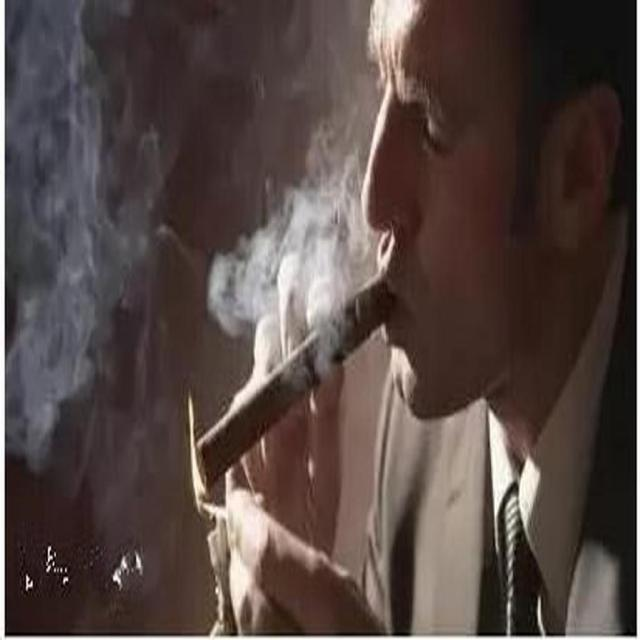smoking: (185, 1, 598, 638)
